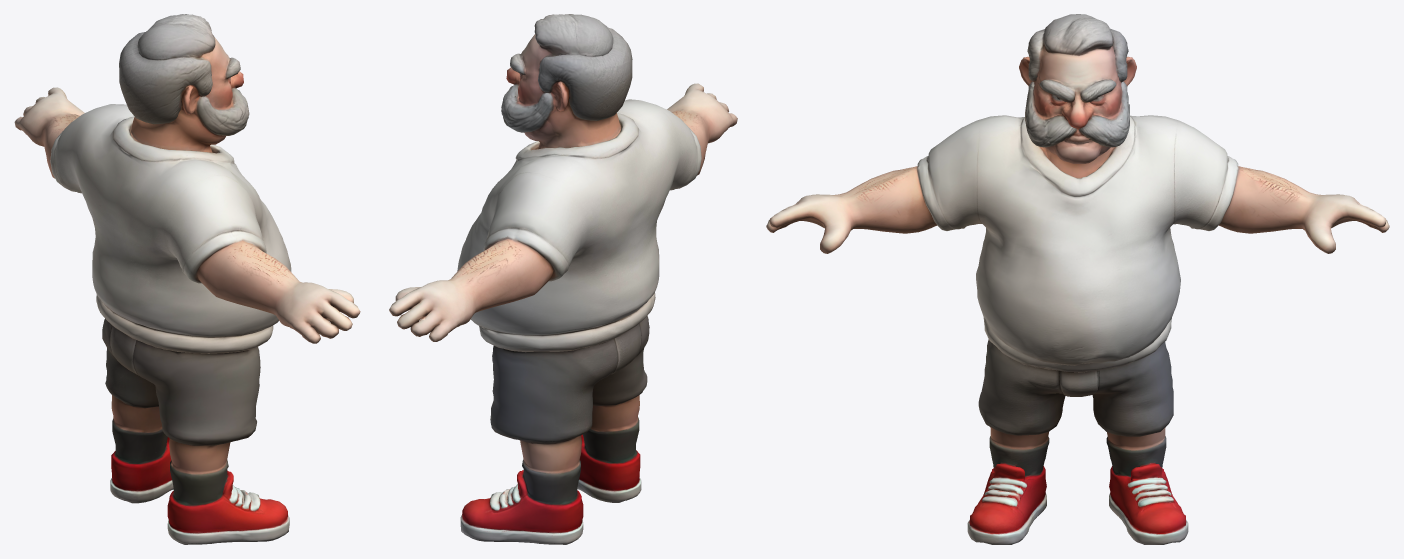
3 renders of one model, left to right at view 1: azimuth 30°, elevation 25°; view 2: azimuth 150°, elevation 25°; view 3: azimuth 270°, elevation 25°, orthographic.
Visible parts, largest first — view 1: tripo_node_4d2d69bd; view 2: tripo_node_4d2d69bd; view 3: tripo_node_4d2d69bd.
Boxes of the visible parts, bbox=[...] form: tripo_node_4d2d69bd: bbox=[14, 14, 360, 544]; tripo_node_4d2d69bd: bbox=[389, 14, 737, 544]; tripo_node_4d2d69bd: bbox=[766, 14, 1389, 544].
Bounding box in the file's own units: 0.3268 × 0.8806 × 1.
1 material, 1 textured.
